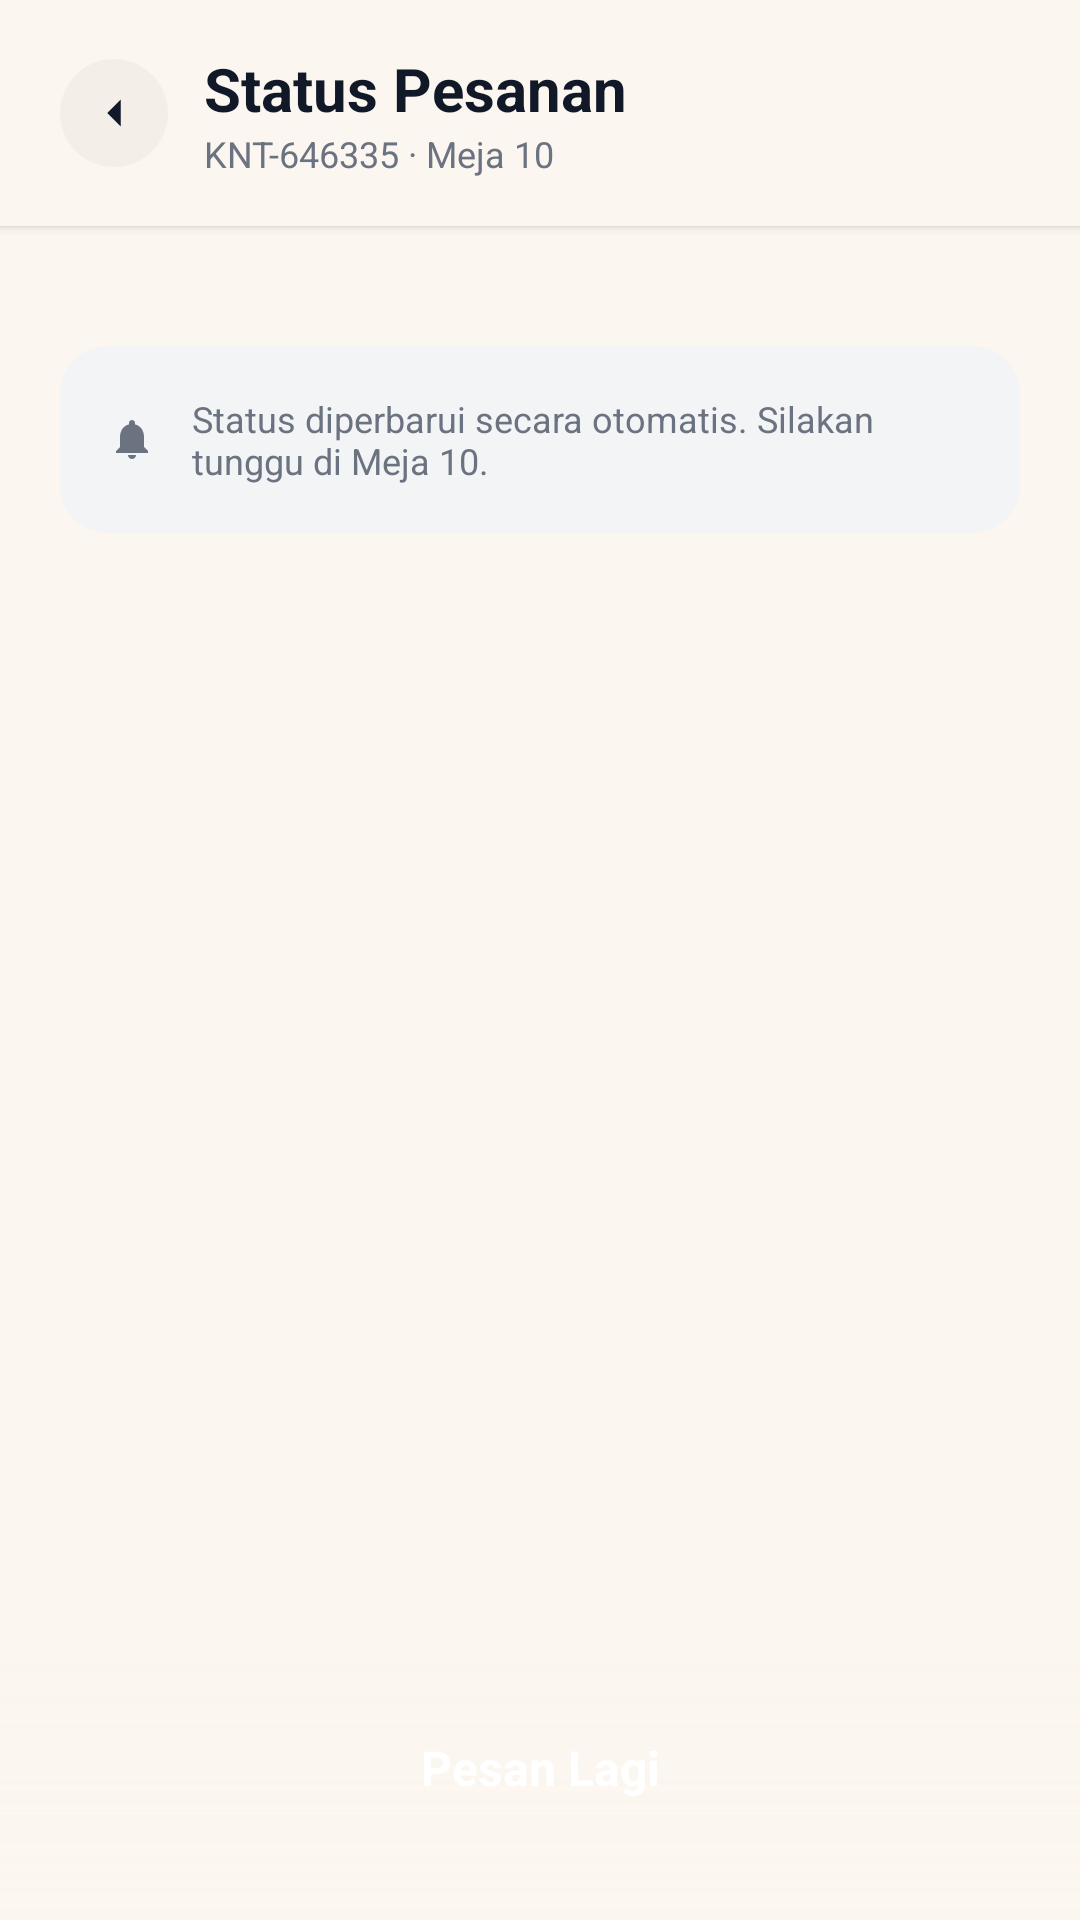

Icon click points for this 1080px x 1920px phone screenshot, format (x=x, y=y):
arrow left: (x=114, y=113)
bell: (x=132, y=439)
